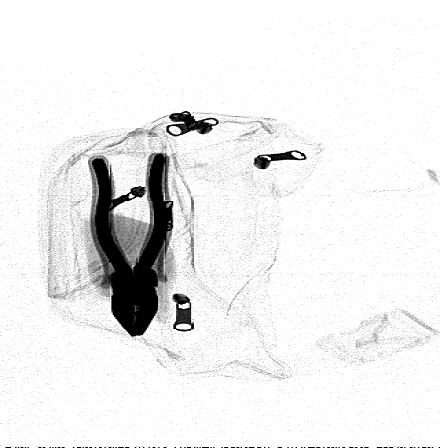Pliers: (85, 152, 172, 339)
